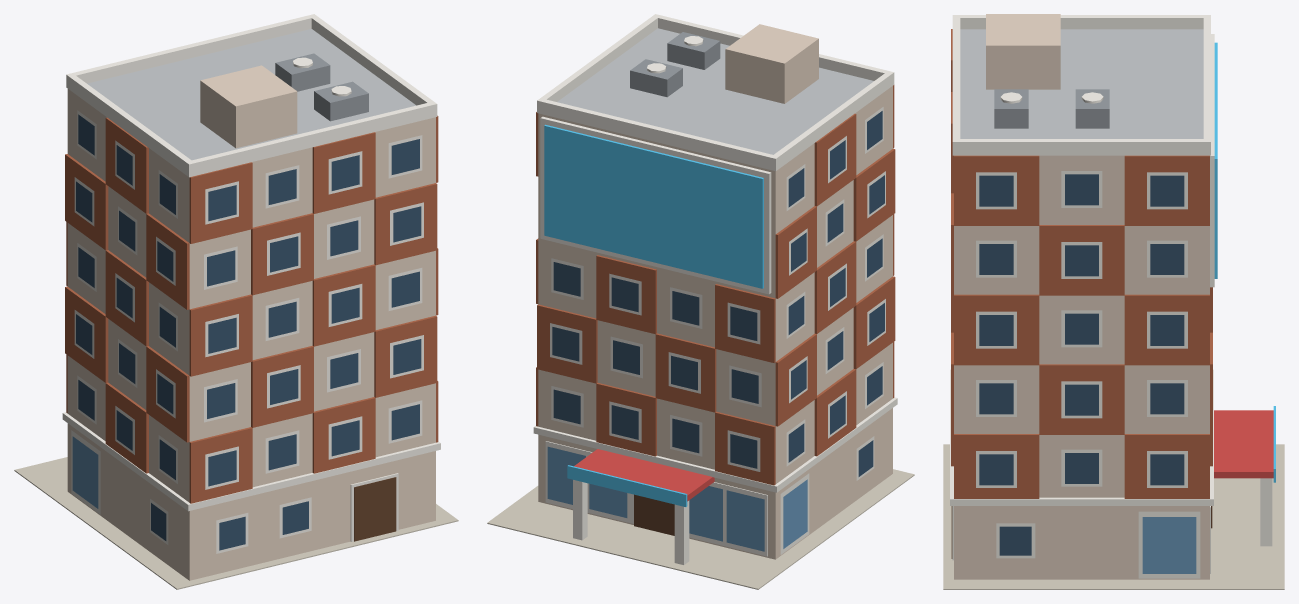
3 views of the same model, side by side, from view 1: azimuth 30°, elevation 25°; view 2: azimuth 150°, elevation 25°; view 3: azimuth 270°, elevation 25° (orthographic). The views are drawn at different scales.
Visible parts, largest first — view 1: store, cladding_panel (×17), window_glass (×22), roof, parapet (×4), lift_housing, plaza, cornice, ac_unit_body (×2), door, storefront, storefront_frame (+1 smaller); view 2: store, cladding_panel (×13), sign (×2), roof, plaza, parapet (×4), window_glass (×12), storefront (×5), lift_housing, sign_border, cornice, canopy (+4 smaller); view 3: store, cladding_panel (×8), roof, window_glass (×16), plaza, parapet (×4), window_frame (×16), lift_housing, canopy, storefront, cornice, ac_unit_body (×2) (+4 smaller).
Part boxes in pixels (left/top/right/bottom): store: left=67, top=89, right=435, bottom=580; cladding_panel (×17): left=65, top=117, right=437, bottom=503; window_glass (×22): left=207, top=139, right=421, bottom=550; roof: left=87, top=29, right=416, bottom=160; parapet (×4): left=66, top=14, right=437, bottom=177; lift_housing: left=200, top=65, right=297, bottom=148; plaza: left=14, top=457, right=458, bottom=589; cornice: left=62, top=412, right=440, bottom=511; ac_unit_body (×2): left=275, top=53, right=368, bottom=121; door: left=354, top=477, right=396, bottom=541; storefront: left=72, top=436, right=98, bottom=508; storefront_frame: left=71, top=430, right=100, bottom=514; store: left=538, top=86, right=892, bottom=559; cladding_panel (×13): left=537, top=113, right=895, bottom=485; sign (×2): left=544, top=124, right=763, bottom=506; roof: left=557, top=28, right=873, bottom=154; plaza: left=487, top=469, right=914, bottom=589; parapet (×4): left=537, top=14, right=894, bottom=171; window_glass (×12): left=552, top=262, right=758, bottom=468; storefront (×5): left=547, top=446, right=807, bottom=551; lift_housing: left=725, top=24, right=818, bottom=103; sign_border: left=540, top=116, right=771, bottom=294; cornice: left=533, top=397, right=897, bottom=492; canopy: left=574, top=449, right=714, bottom=501; store: left=954, top=155, right=1209, bottom=579; cladding_panel (×8): left=954, top=155, right=1209, bottom=498; roof: left=960, top=29, right=1203, bottom=138; window_glass (×16): left=979, top=174, right=1184, bottom=555; plaza: left=943, top=444, right=1284, bottom=589; parapet (×4): left=952, top=15, right=1210, bottom=155; window_frame (×16): left=976, top=171, right=1187, bottom=558; lift_housing: left=986, top=14, right=1060, bottom=89; canopy: left=1214, top=410, right=1273, bottom=478; storefront: left=1142, top=517, right=1196, bottom=573; cornice: left=950, top=369, right=1213, bottom=505; ac_unit_body (×2): left=994, top=89, right=1109, bottom=128.
Bounding box in the file's own units: 16 × 24.4 × 16.
